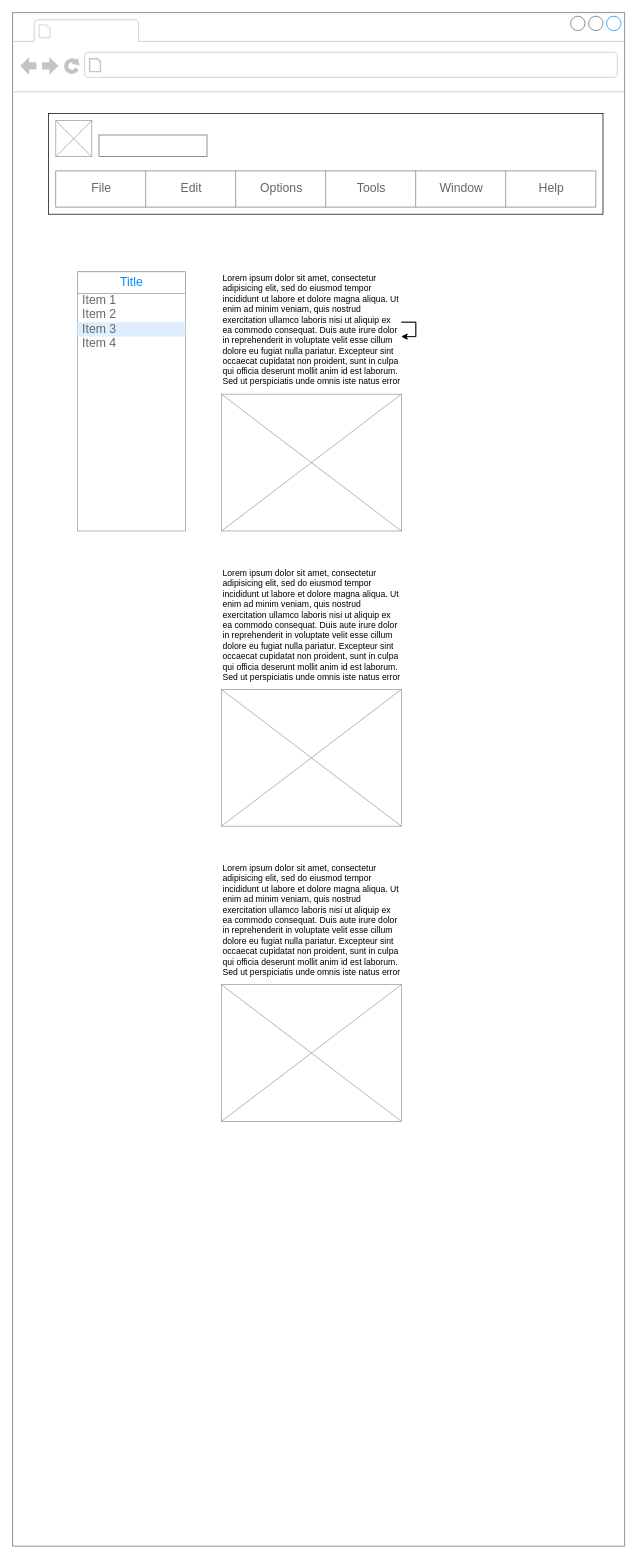
Some shapes in this 637 by 1559 pixel diagram are drawn without their labels. The centre of each missing label's shape, as x and y in pixels:
"https://www.draw.io" belongs at point (195, 65).
"Line 1" belongs at point (152, 145).
"Page 1" belongs at point (95, 30).
